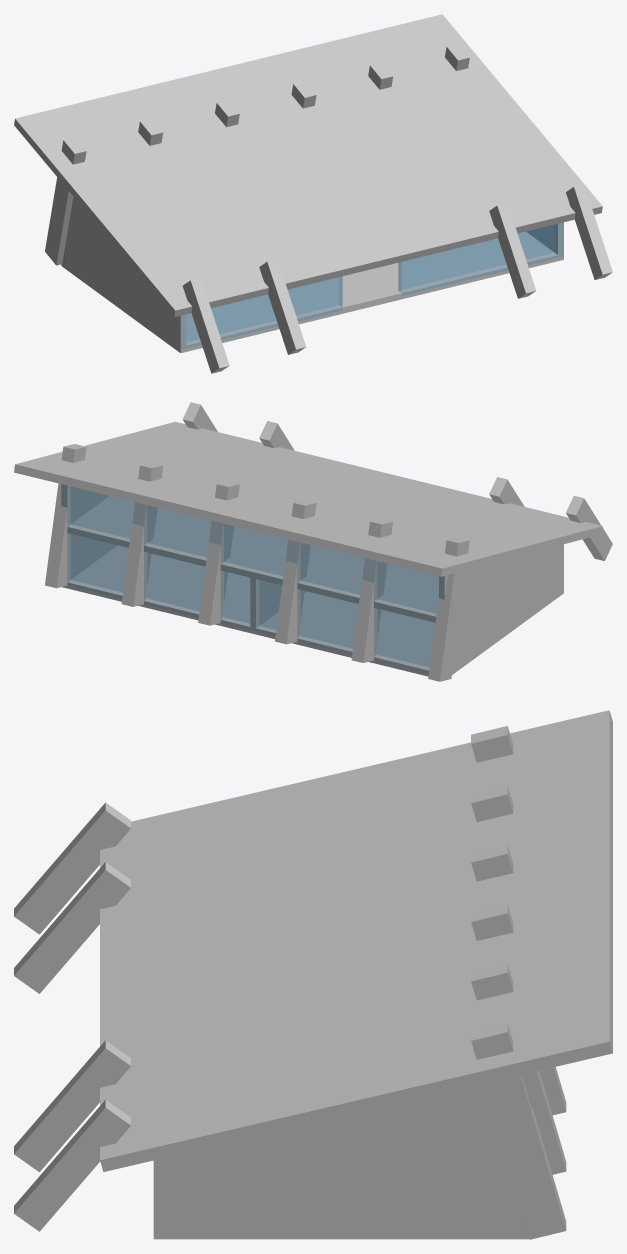
File: Gym.fbx
3 renders of one model, top to bottom at view 1: azimuth 30°, elevation 25°; view 2: azimuth 150°, elevation 25°; view 3: azimuth 270°, elevation 25°, orthographic. The views are drawn at different scales.
Visible parts, largest first — view 1: Edificio_Taller_3; view 2: Edificio_Taller_3; view 3: Edificio_Taller_3.
Part boxes in pixels (box(x1,y1,x2,y2)): Edificio_Taller_3: box(14, 14, 612, 373); Edificio_Taller_3: box(14, 402, 612, 681); Edificio_Taller_3: box(14, 710, 612, 1239).
Size of the model in its own units: 29 by 8.76 by 22.15.
